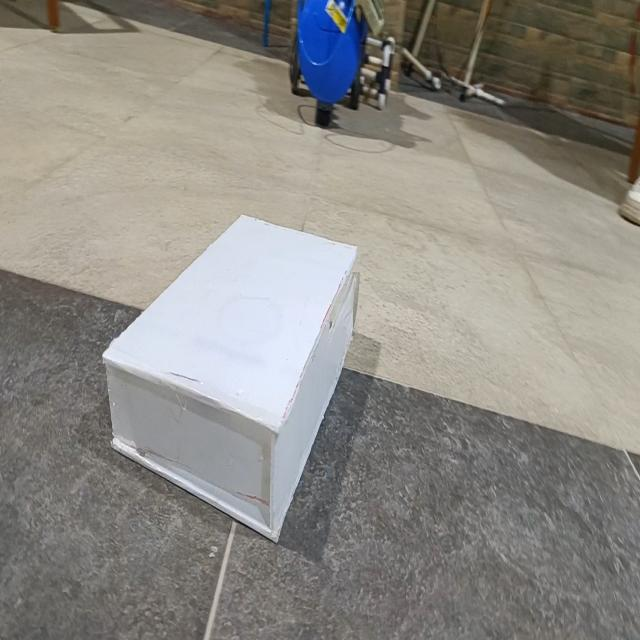Cuboid: (101, 210, 359, 543)
